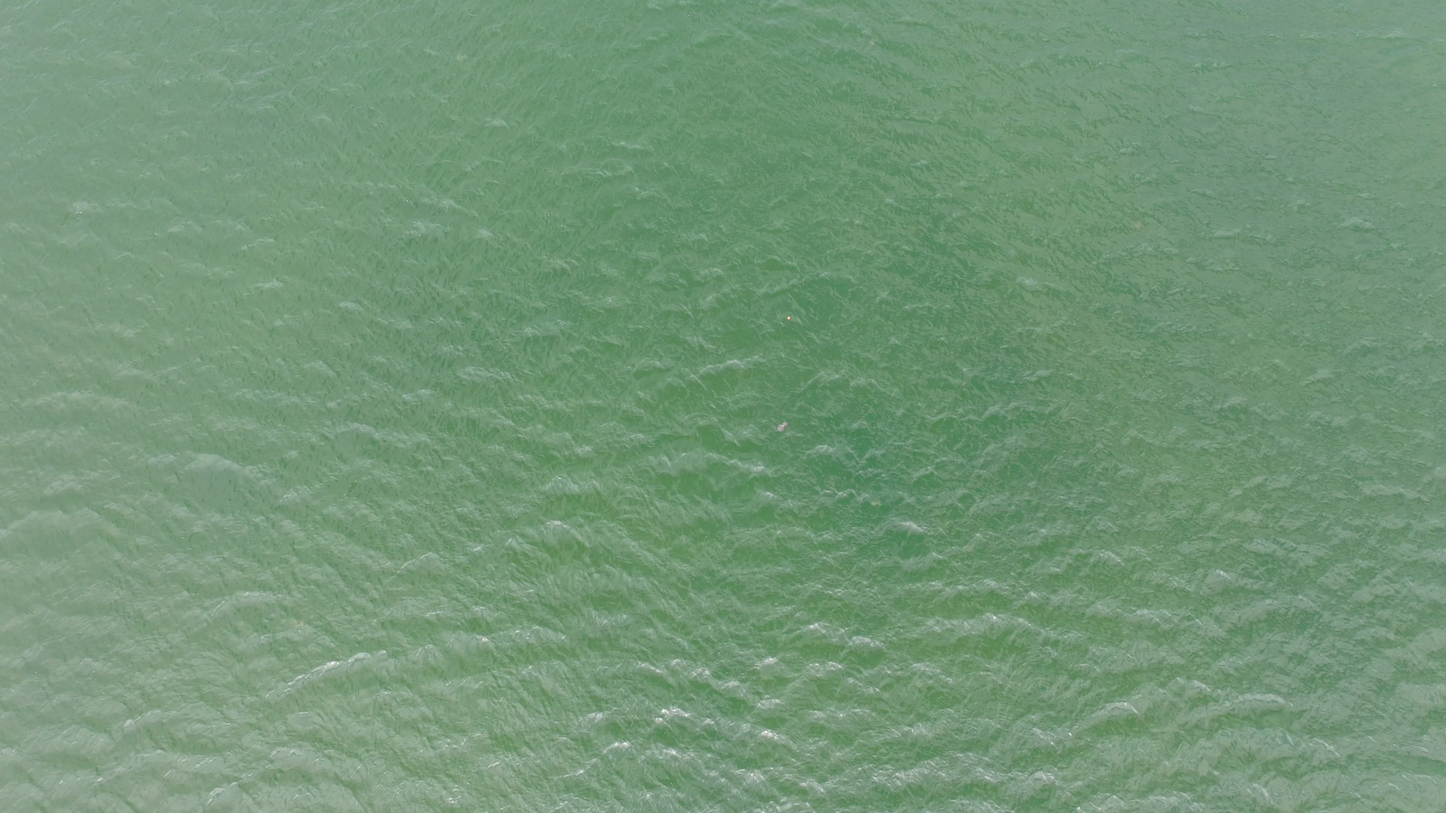meduse: (1133, 220, 1146, 231), (778, 421, 789, 432), (294, 618, 305, 627), (458, 53, 469, 62), (909, 226, 917, 236), (872, 498, 880, 508)
